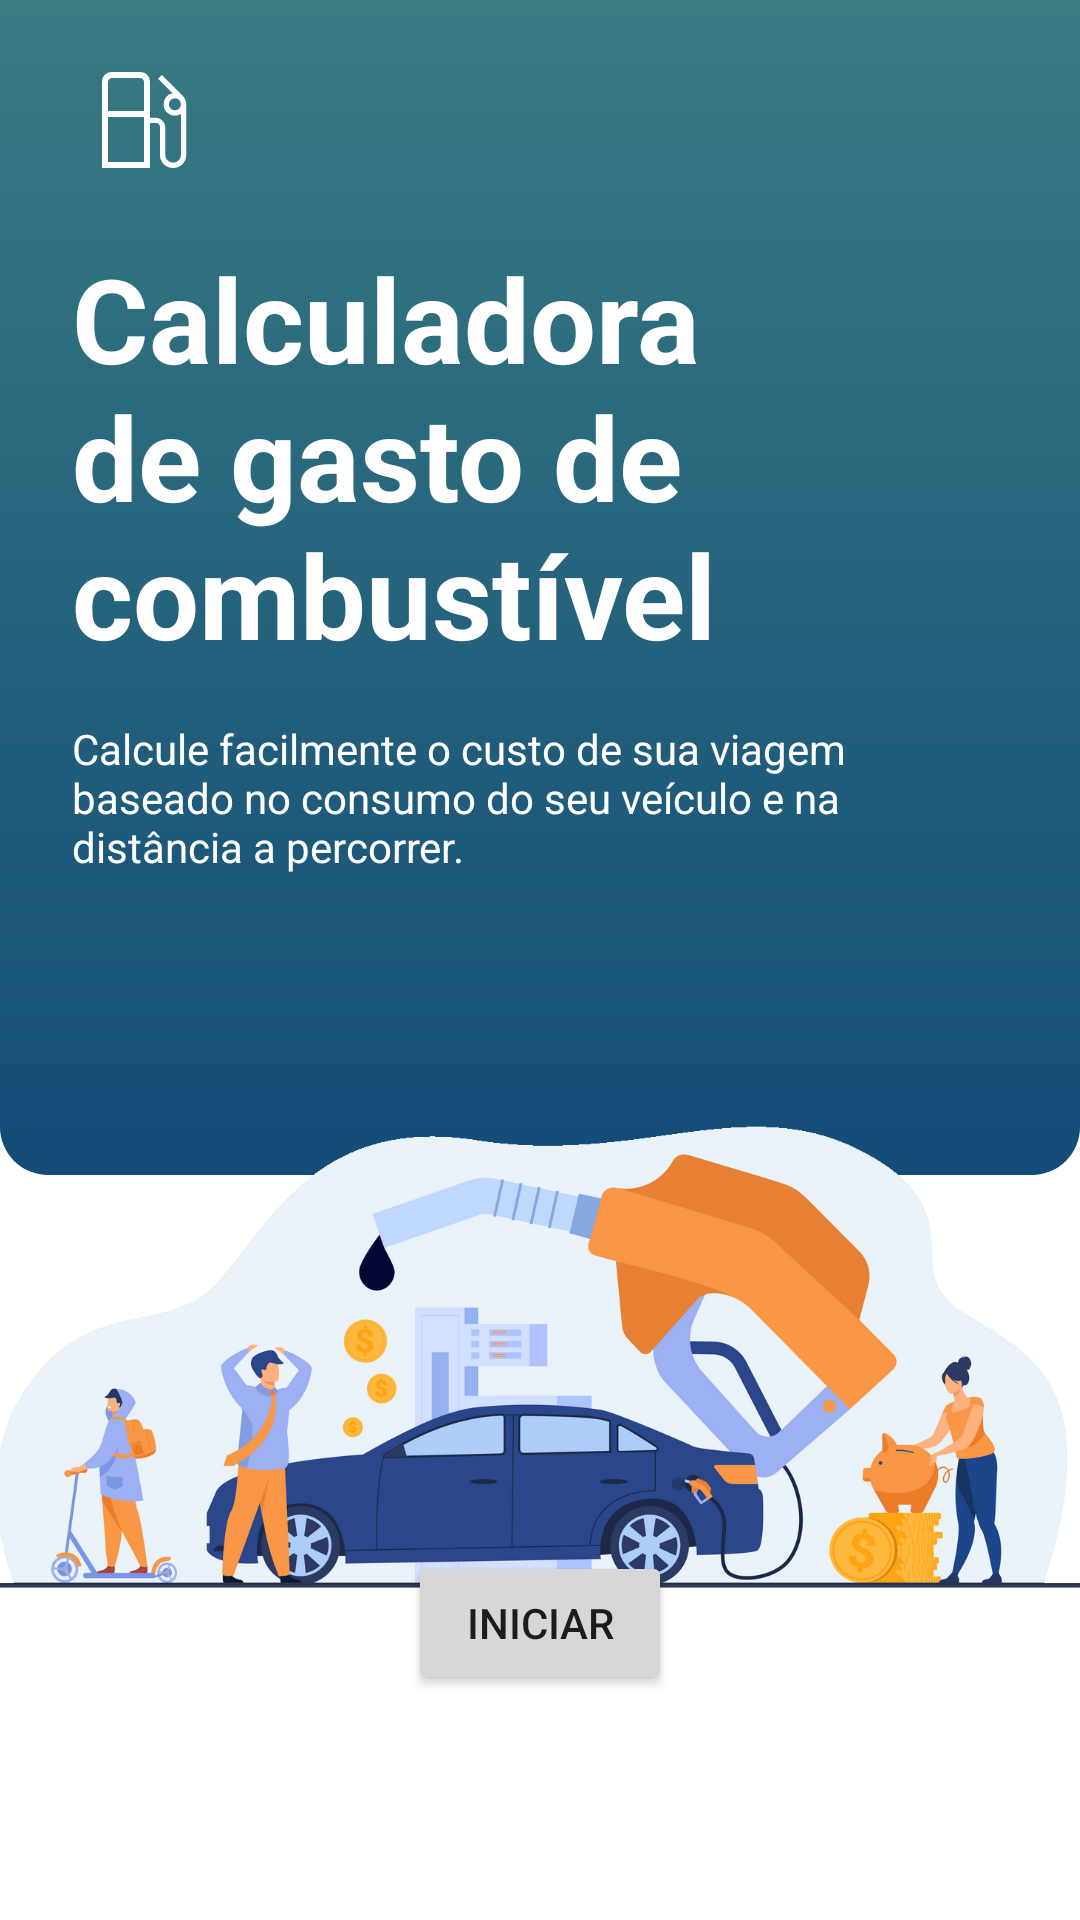

Icons on this 1080px×1920px Android screen, each with the point to tap as (x,y):
gas: (144,120)
